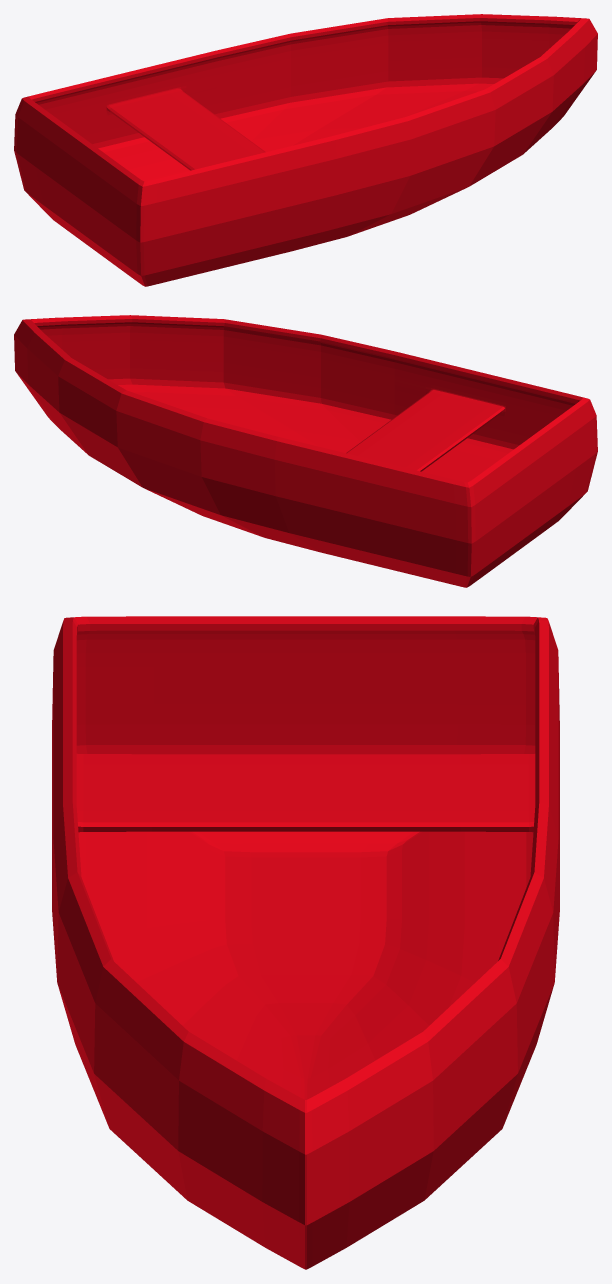
Rendered from BOAT.fbx.
The picture shows the model from 3 angles, top to bottom: view 1: azimuth 30°, elevation 25°; view 2: azimuth 150°, elevation 25°; view 3: azimuth 270°, elevation 25°; orthographic projection. The views are drawn at different scales.
Parts seen in each view (by area): view 1: Cube; view 2: Cube; view 3: Cube.
Part boxes in pixels (x1,y1,x2,y2): Cube: (14,14,597,286); Cube: (14,315,597,587); Cube: (52,616,559,1269).
Size of the model in its own units: 468 by 114 by 197.
